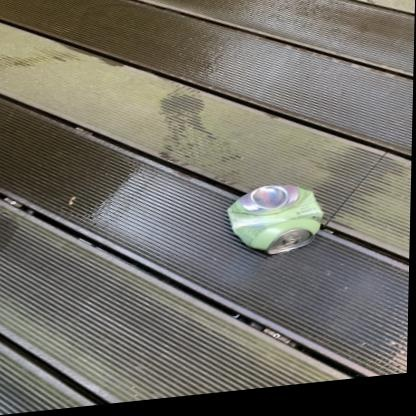trash: (228, 185, 322, 253)
